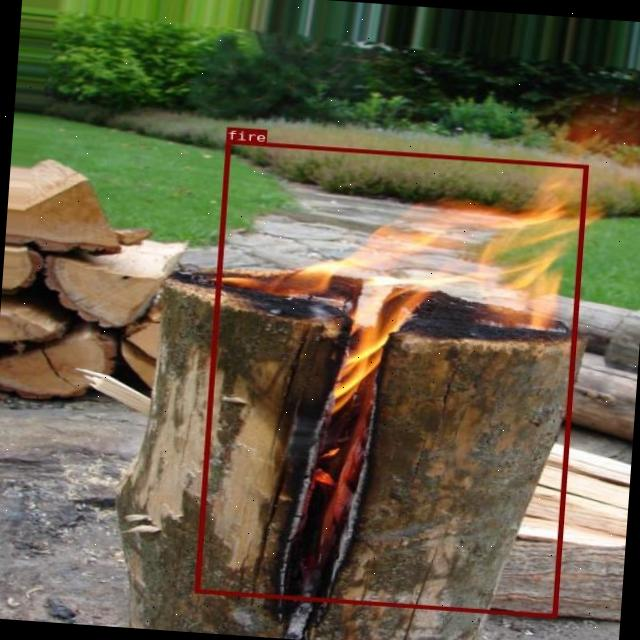fire: (193, 139, 586, 616)
